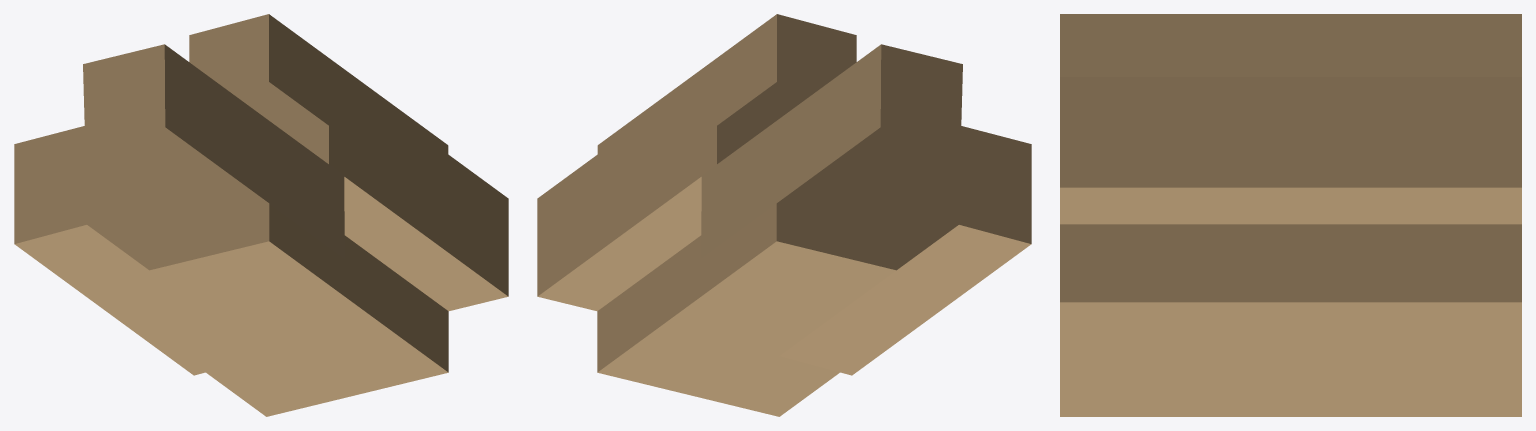
The picture shows the model from 3 angles, left to right: view 1: azimuth 30°, elevation 25°; view 2: azimuth 150°, elevation 25°; view 3: azimuth 270°, elevation 25°; orthographic projection. The views are drawn at different scales.
Parts seen in each view (by area): view 1: 0_0_1_2_0_0_1_1_2; view 2: 0_0_1_2_0_0_1_1_2; view 3: 0_0_1_2_0_0_1_1_2.
Part boxes in pixels (<box>): 0_0_1_2_0_0_1_1_2: <box>14,14,508,416</box>; 0_0_1_2_0_0_1_1_2: <box>537,14,1031,416</box>; 0_0_1_2_0_0_1_1_2: <box>1060,14,1521,416</box>.
Size of the model in its own units: 27.32 by 18.86 by 27.
